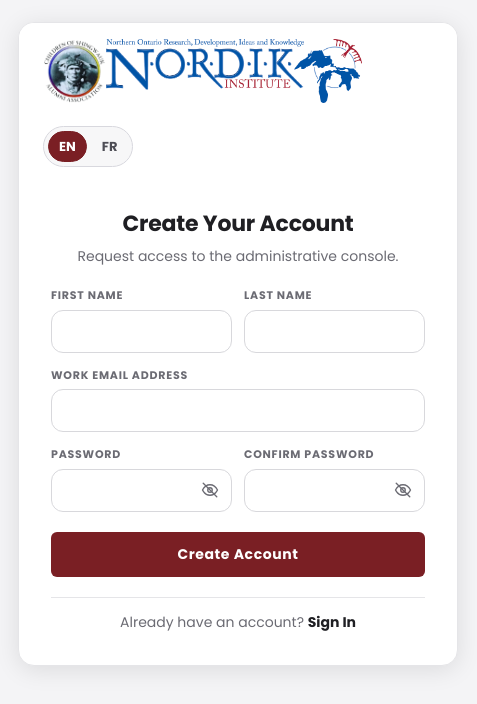
Test: SignupPage › shows field error when the email address is invalid
Step 1. Type "Jane" into the field labelled "First Name" → (142, 331), box [52, 311, 231, 352]
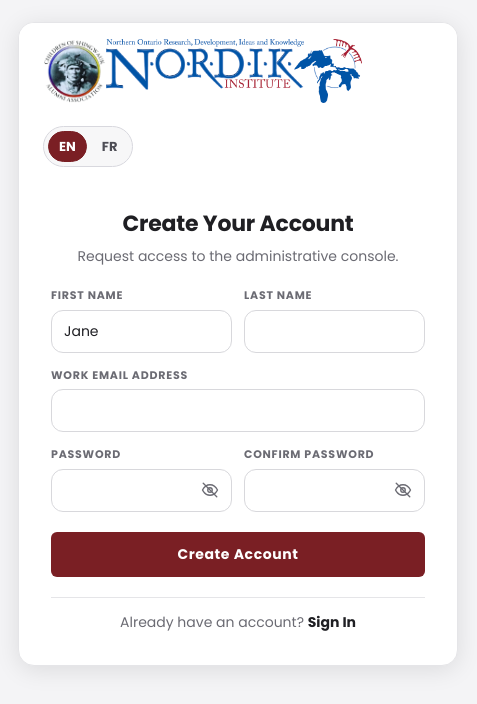
Step 2. Type "Doe" into the field labelled "Last Name" → (334, 331), box [245, 311, 424, 352]
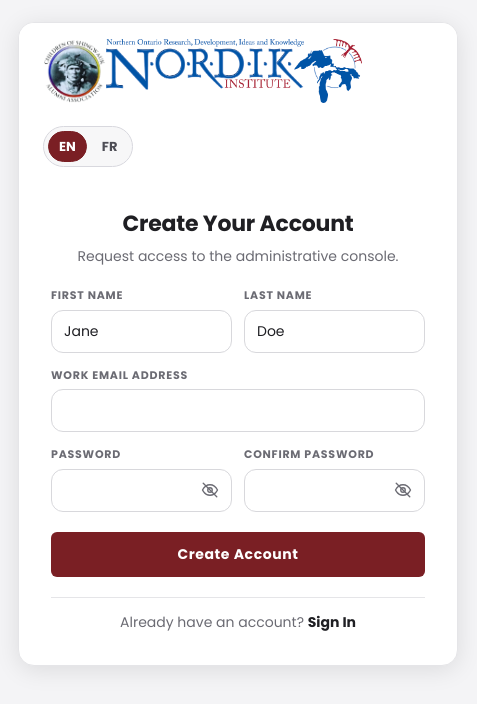
Step 3. Type "invalid-email" into the field labelled "Work Email Address" → (238, 411), box [52, 390, 424, 431]
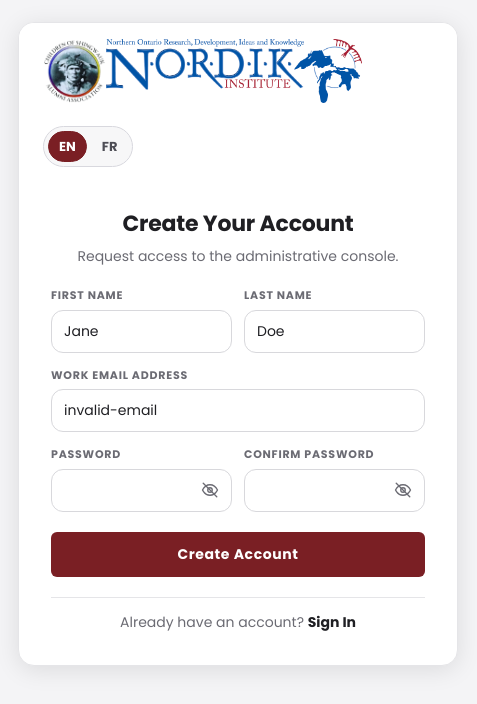
Step 4. Type "Password123!" into the password field labelled "Password" → (142, 490), box [52, 470, 231, 511]
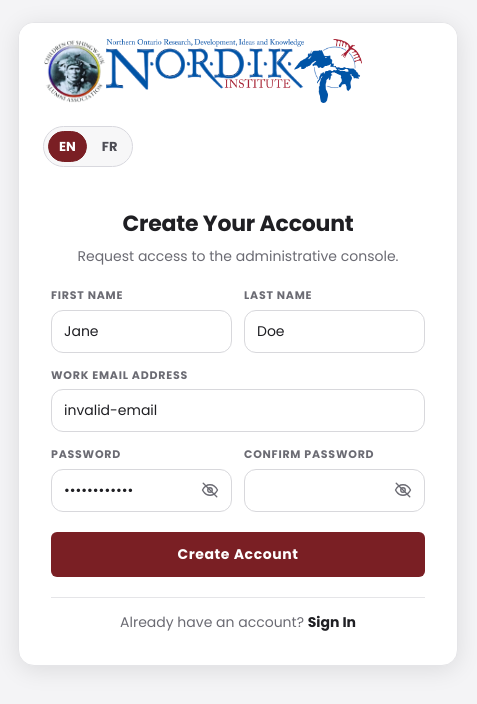
Step 5. Type "Password123!" into the password field labelled "Confirm Password" → (334, 490), box [245, 470, 424, 511]
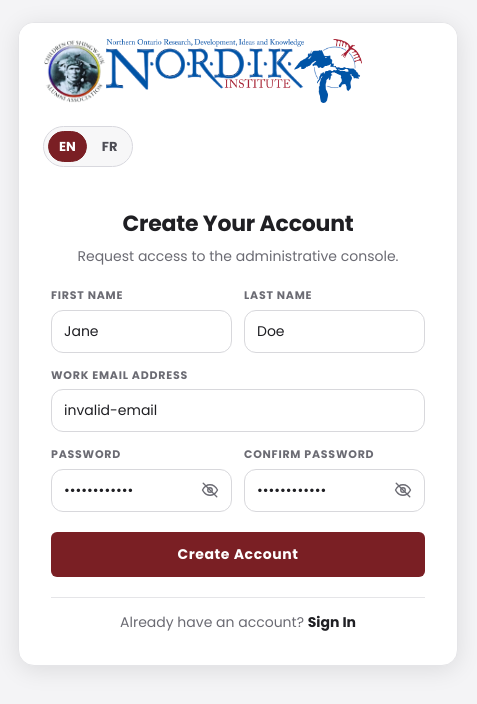
Step 6. Click the button "Create Account" → (238, 554), box [51, 532, 425, 577]
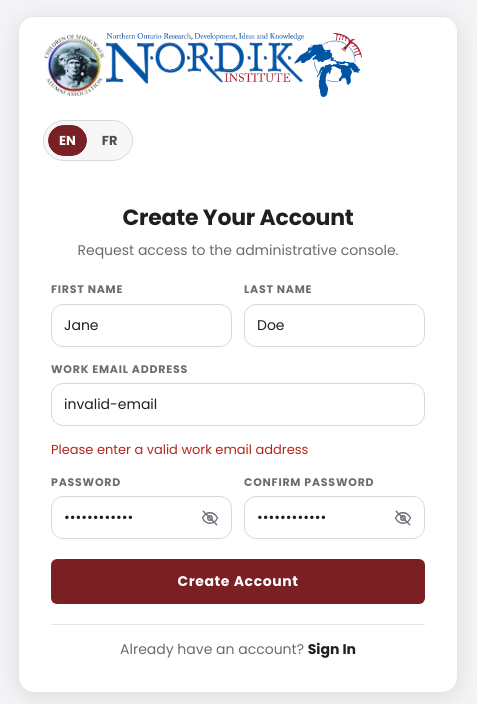
Now the text "Please enter a valid work email address" is shown, box [51, 440, 308, 459]
